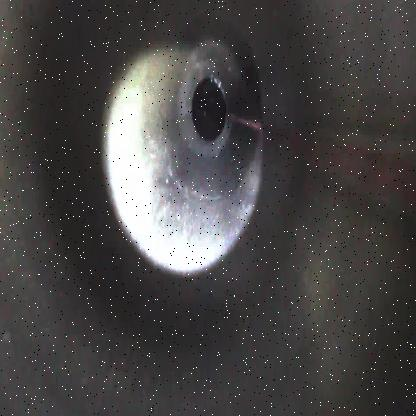NoCrack: (107, 31, 262, 274)
